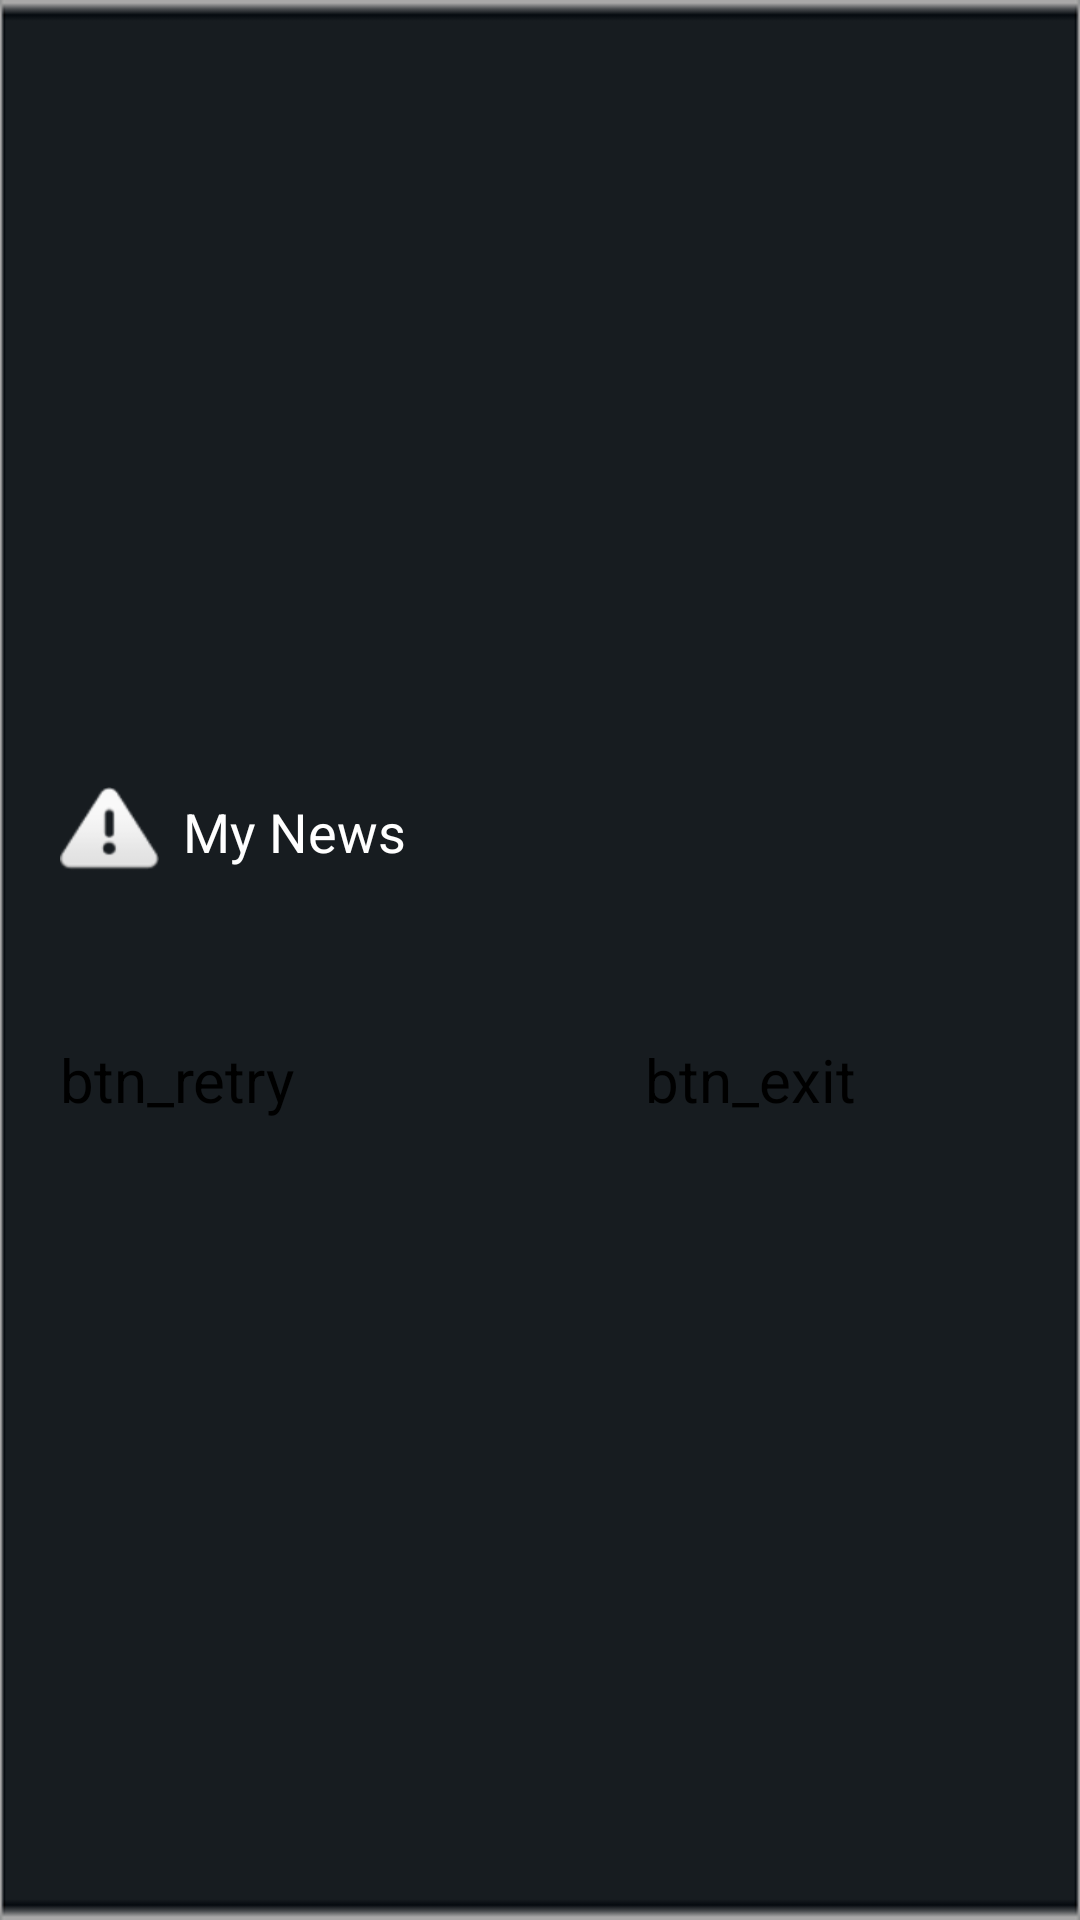

Where icons sit on this 1080 x 1920 app screen, as (x1, y1, x2, y2):
alert: (60, 787, 159, 869)
